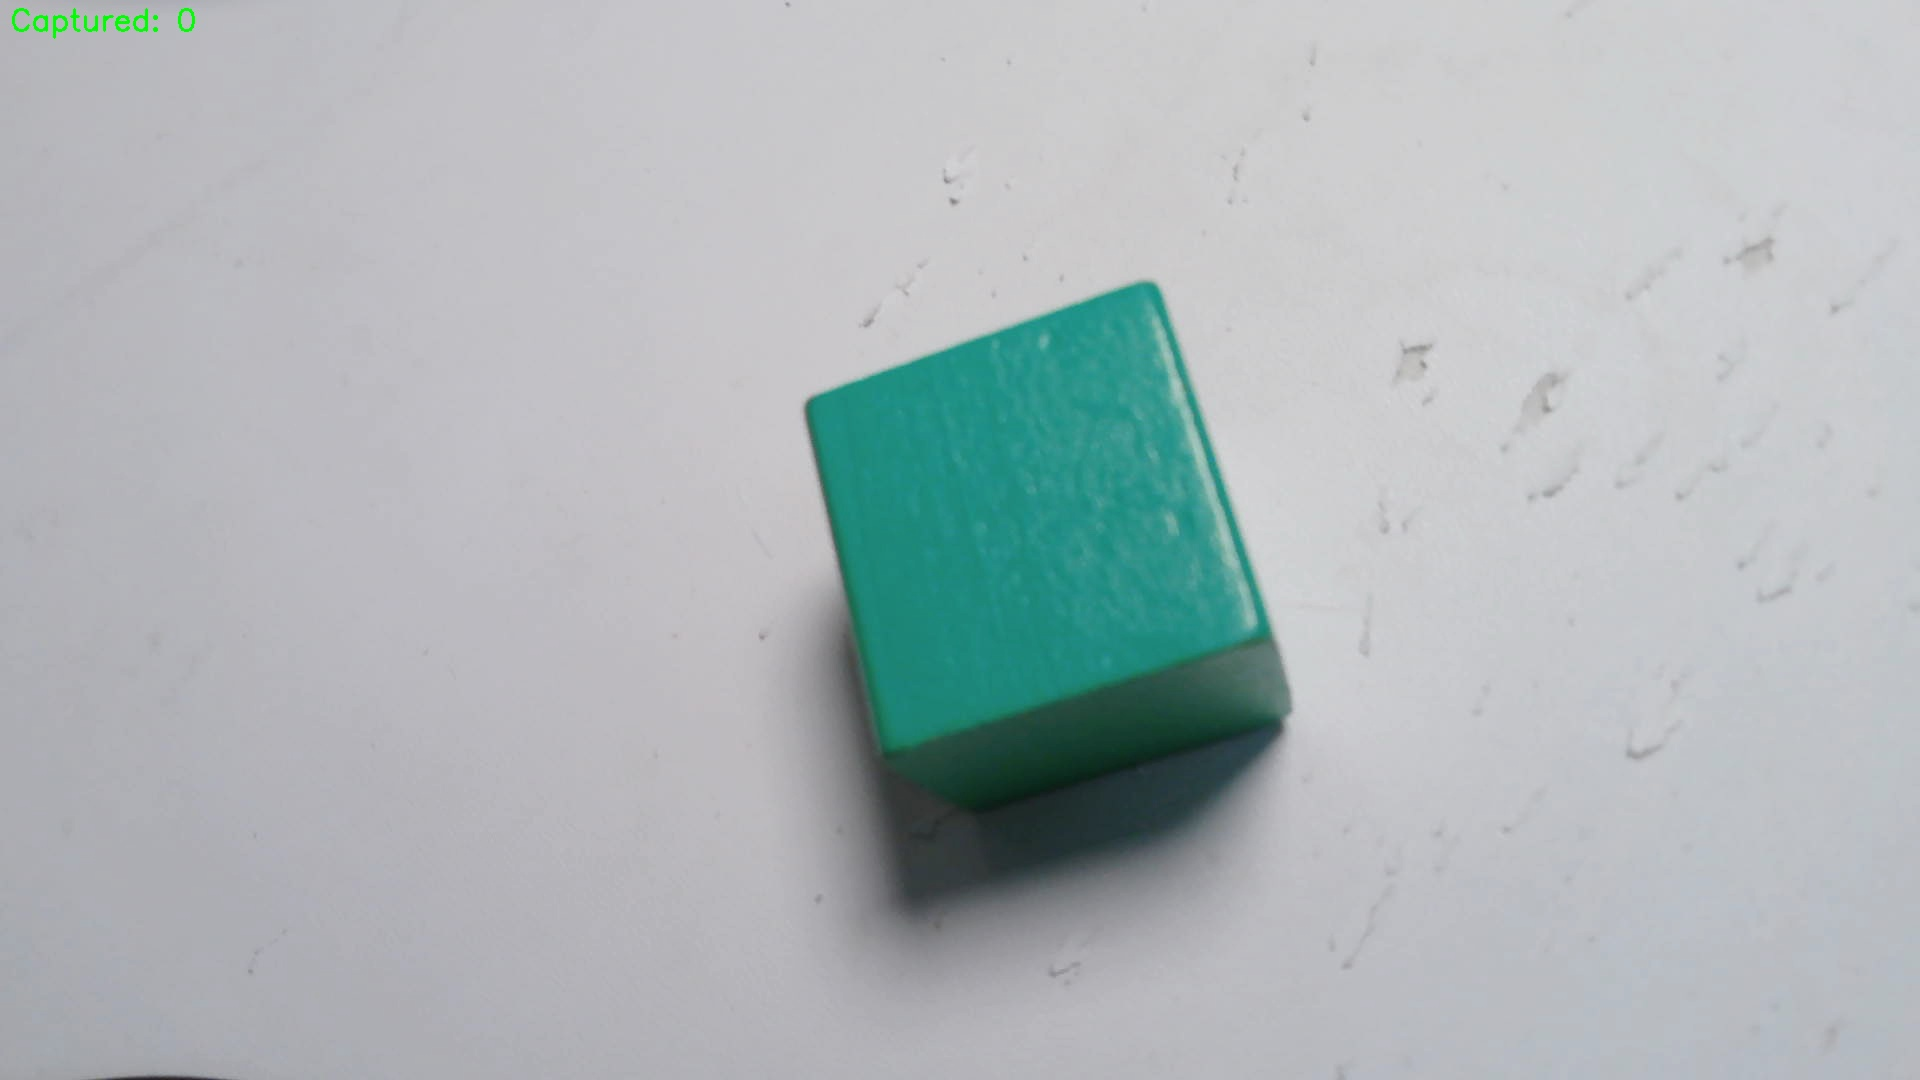green: (800, 277, 1294, 814)
